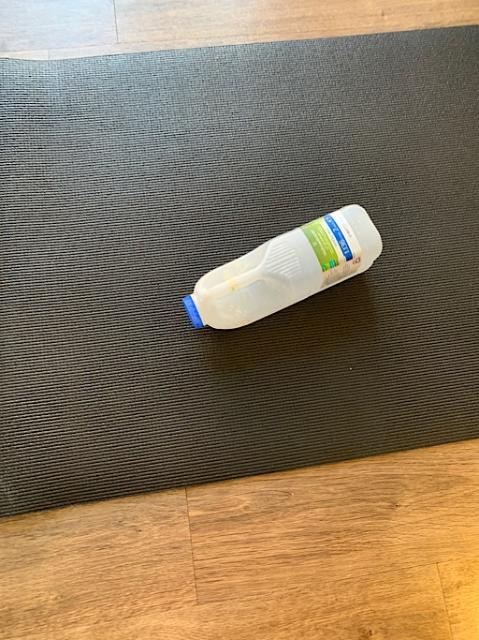plastic: (183, 204, 380, 327)
